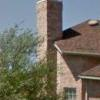Chimney: (31, 1, 66, 63)
